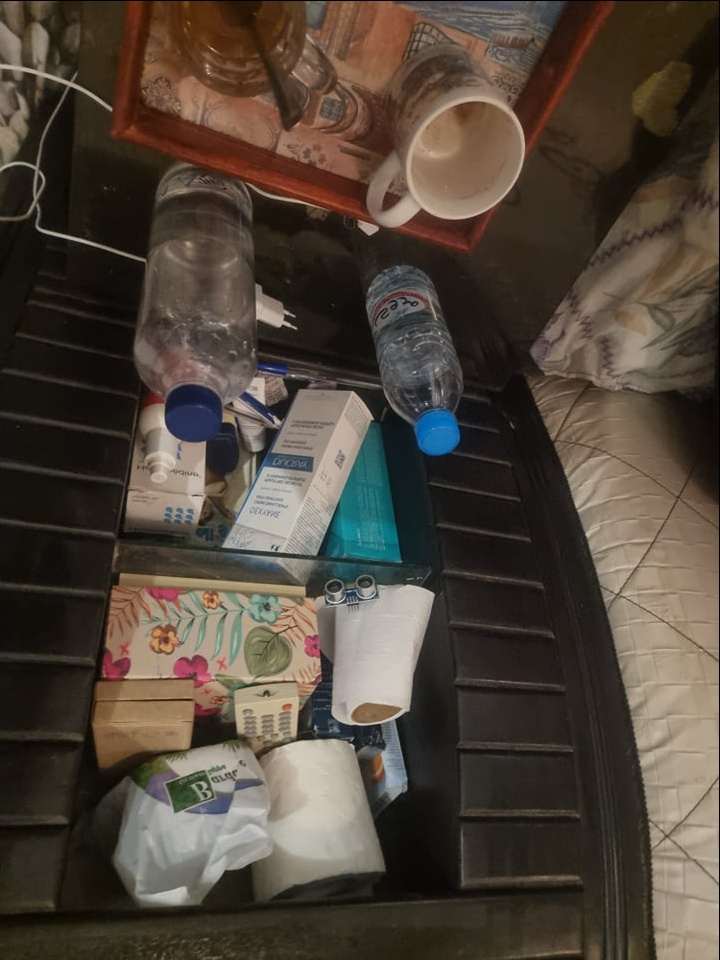SENSOR: (324, 571, 380, 608)
